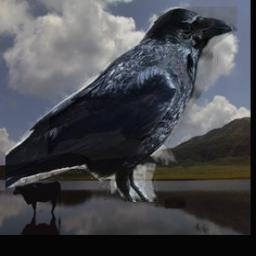Crow: (5, 7, 238, 203)
